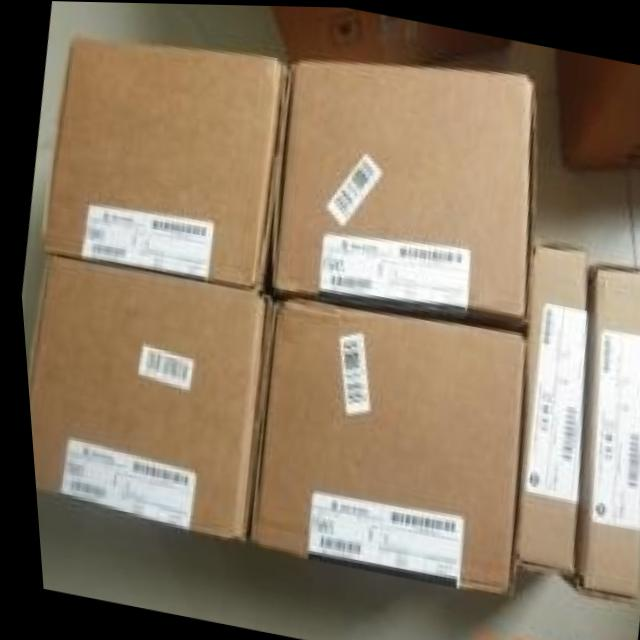box: (236, 289, 522, 594), (22, 249, 270, 539), (266, 59, 533, 323), (38, 35, 286, 286), (500, 243, 582, 576), (558, 265, 640, 598), (268, 5, 511, 64), (555, 48, 640, 166)
